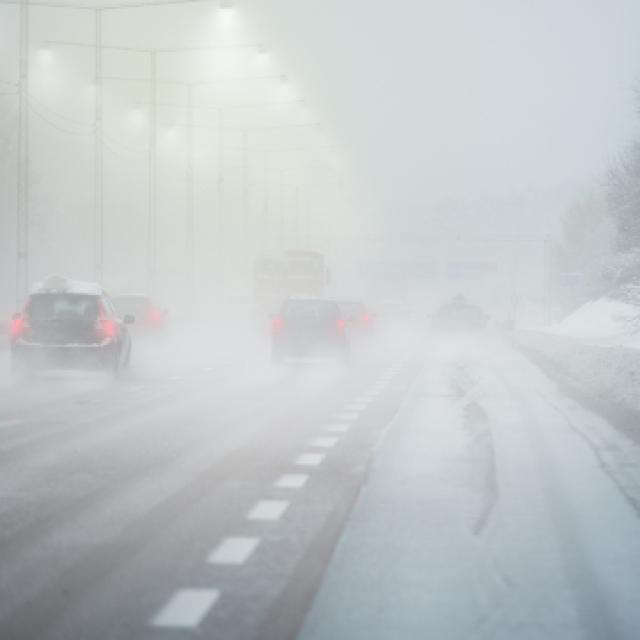bus: (252, 239, 332, 304)
car: (7, 277, 131, 377), (268, 295, 349, 372), (424, 295, 491, 354), (108, 293, 165, 331), (346, 297, 378, 347)
